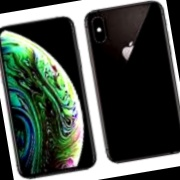iphone: (4, 12, 86, 168), (96, 12, 178, 167)
